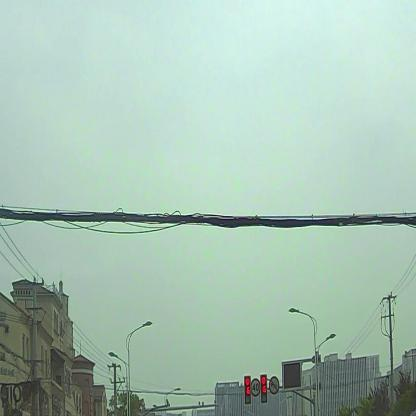Red Light: (260, 374, 268, 404), (244, 376, 252, 404)
